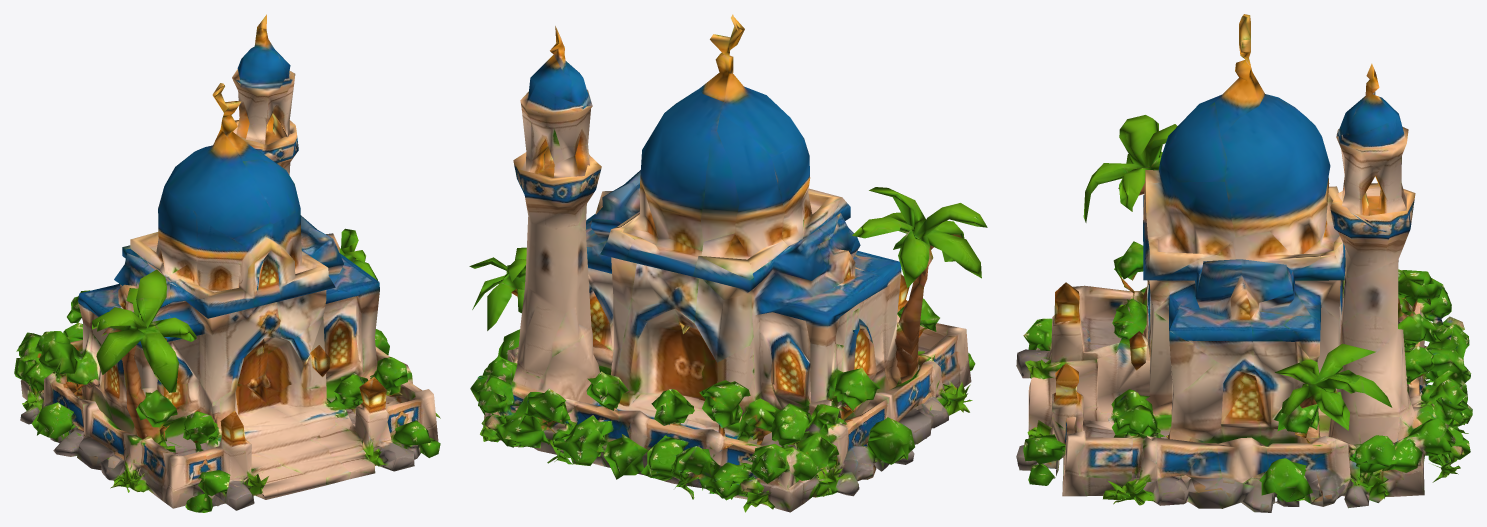
The model's file is oasis-mosque.glb.
The picture shows the model from 3 angles, left to right: view 1: azimuth 30°, elevation 25°; view 2: azimuth 150°, elevation 25°; view 3: azimuth 270°, elevation 25°; orthographic projection. The views are drawn at different scales.
Size of the model in its own units: 1.87 by 1.77 by 1.77.
Materials: 1 (1 with a texture image).
